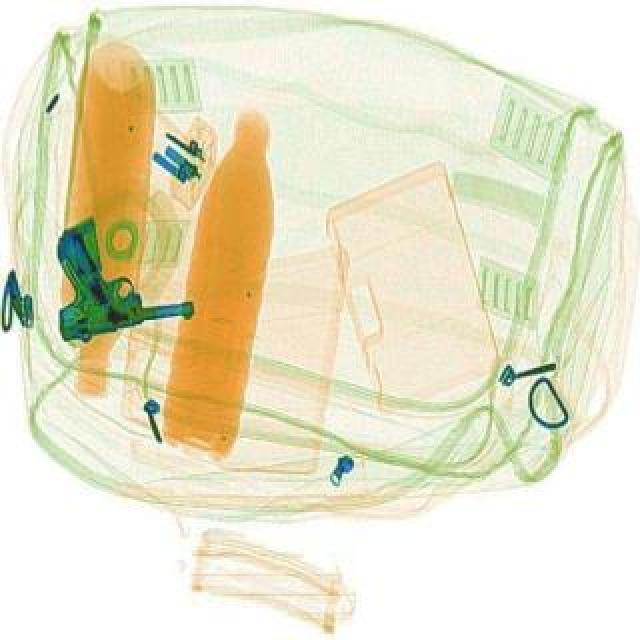gun: (34, 202, 198, 344)
